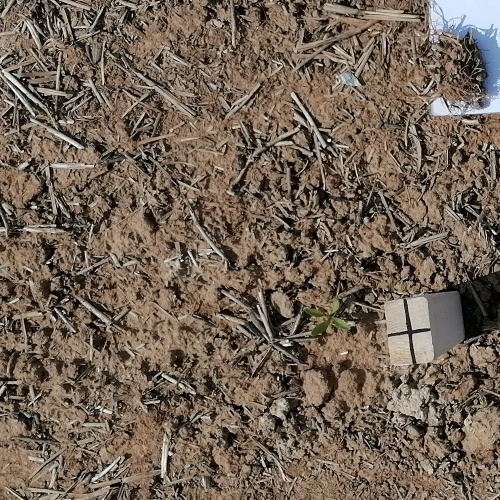beet: (302, 299, 351, 338)
